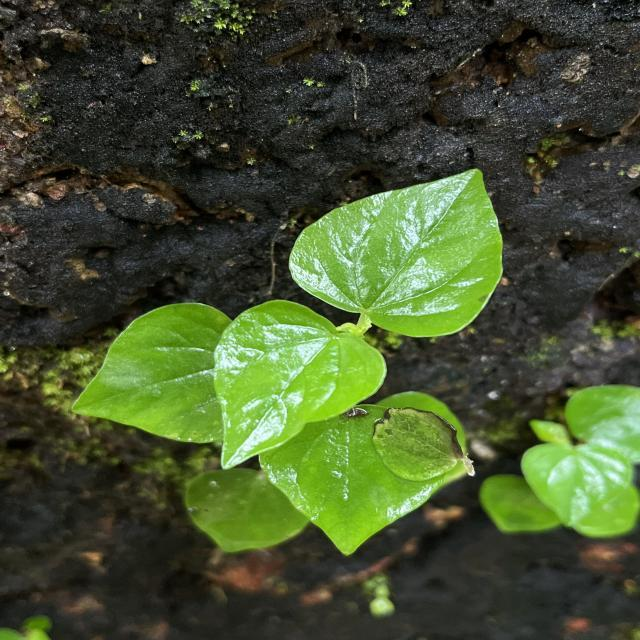Peperomia pellucida: (282, 157, 516, 347), (206, 291, 396, 477)
